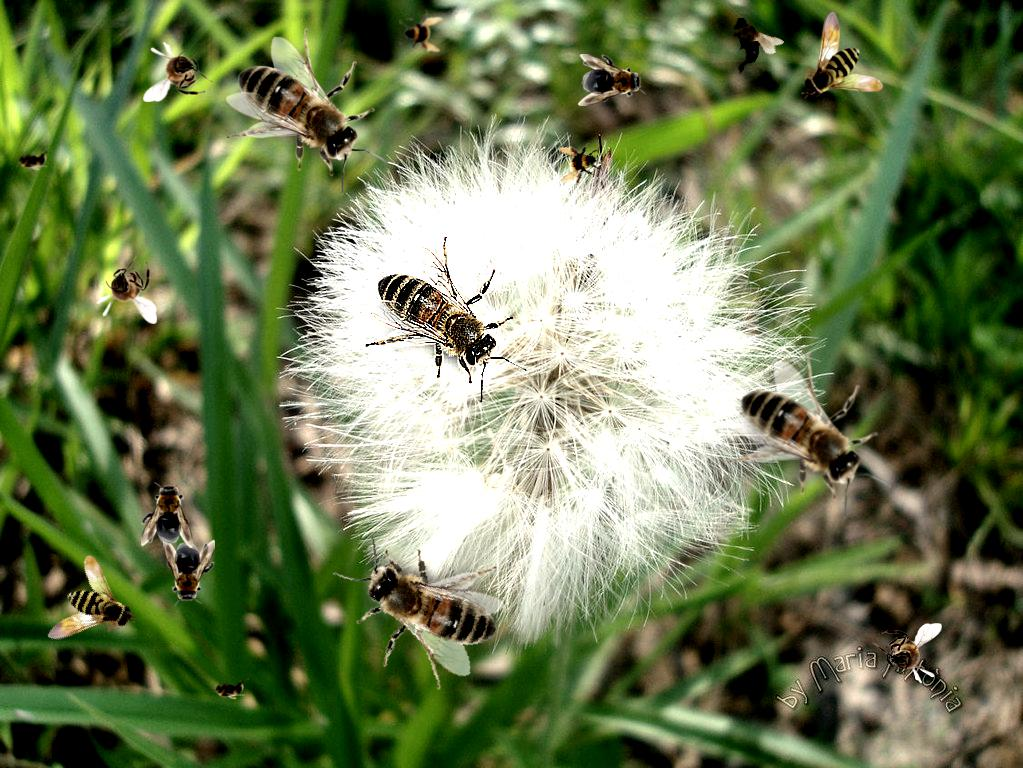Bee: (327, 510, 518, 706), (729, 352, 891, 519), (226, 28, 388, 195), (365, 236, 527, 403), (22, 549, 140, 665), (801, 11, 883, 99), (706, 2, 789, 82), (872, 623, 942, 684), (96, 254, 157, 324), (143, 41, 213, 102), (578, 54, 646, 106), (163, 538, 215, 606), (141, 480, 193, 548), (554, 138, 606, 190), (399, 10, 443, 54), (12, 149, 52, 171), (209, 678, 249, 700)
